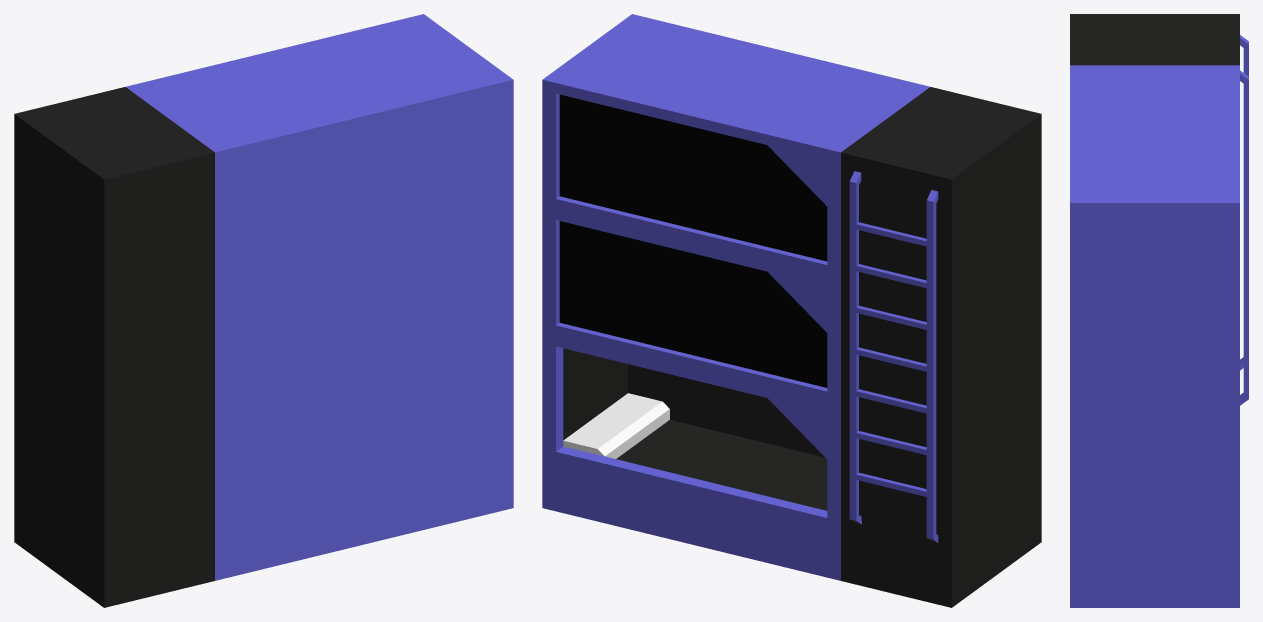
Rendered from Bed_1.1.fbx.
The picture shows the model from 3 angles, left to right: view 1: azimuth 30°, elevation 25°; view 2: azimuth 150°, elevation 25°; view 3: azimuth 270°, elevation 25°; orthographic projection. The views are drawn at different scales.
Visible parts, largest first — view 1: beds.004; view 2: beds.004; view 3: beds.004.
Boxes of the visible parts, x1,y1,x2,y2 form: beds.004: (14,14,513,607); beds.004: (542,14,1041,607); beds.004: (1070,14,1248,607).
Size of the model in its own units: 5 by 2 by 5.
